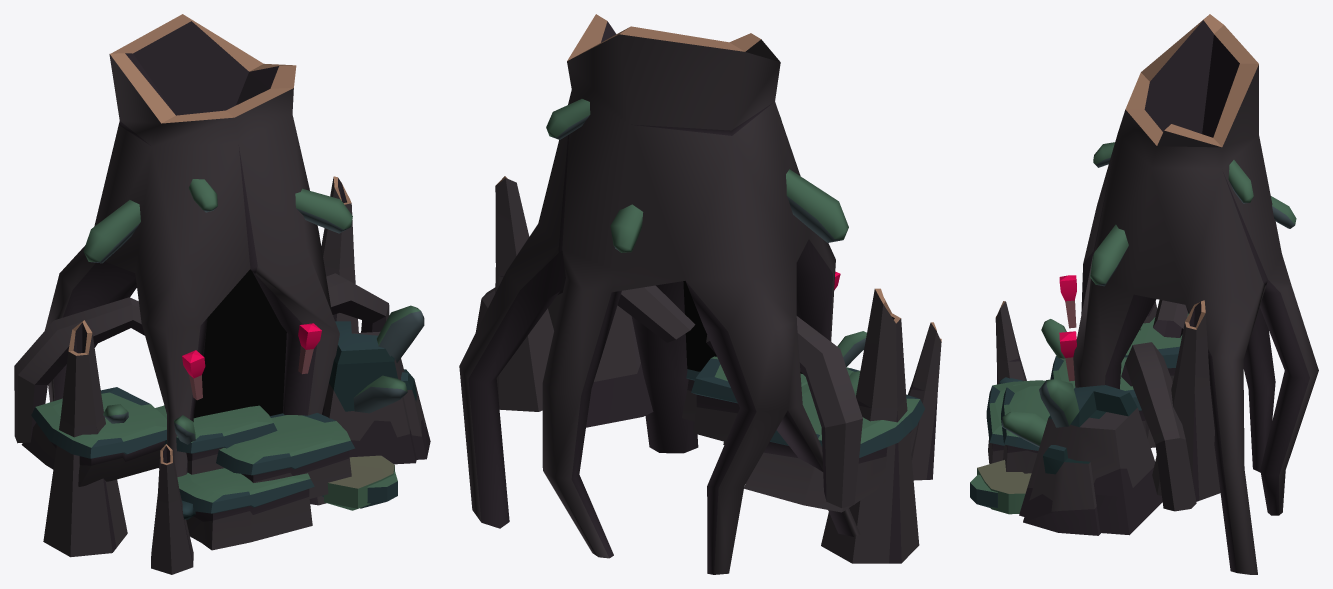
File: дверь.fbx
The picture shows the model from 3 angles, left to right: view 1: azimuth 30°, elevation 25°; view 2: azimuth 150°, elevation 25°; view 3: azimuth 270°, elevation 25°; orthographic projection. The views are drawn at different scales.
Visible parts, largest first — view 1: pCube9; view 2: pCube9; view 3: pCube9.
Part boxes in pixels (box(x1,y1,x2,y2)): pCube9: box(14, 14, 430, 574); pCube9: box(459, 14, 941, 574); pCube9: box(970, 14, 1318, 574).
Bounding box in the file's own units: 8.23 × 10 × 6.89.
